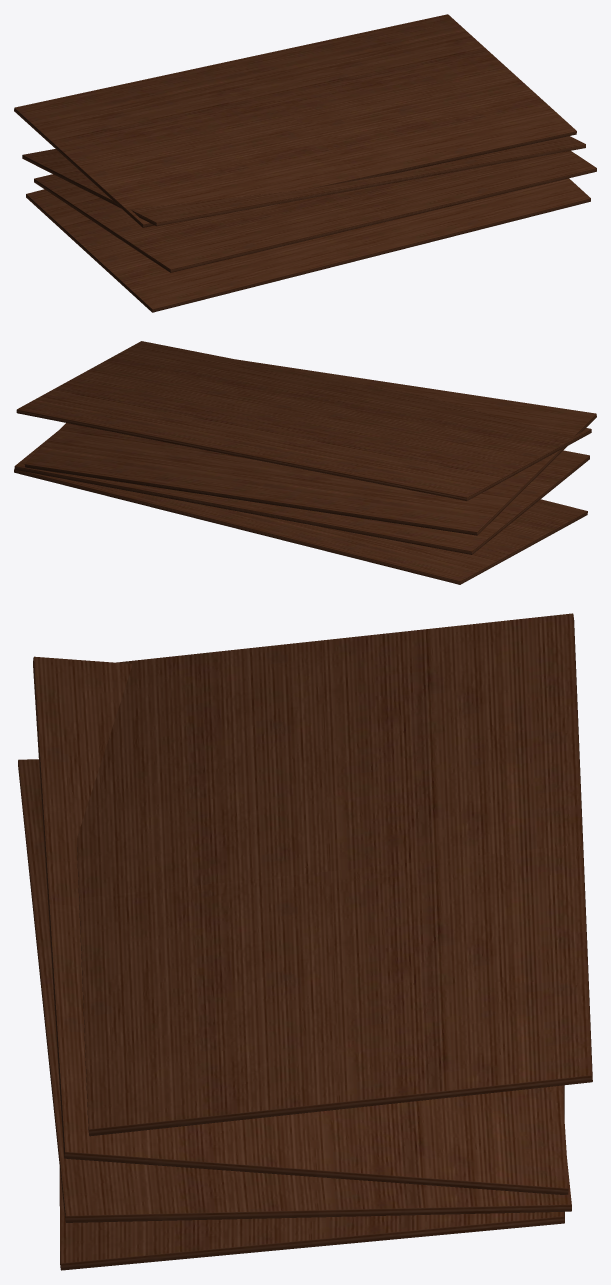
File: EST-FOR-001_anim.glb
3 renders of one model, top to bottom at view 1: azimuth 30°, elevation 25°; view 2: azimuth 150°, elevation 25°; view 3: azimuth 270°, elevation 25°, orthographic. The views are drawn at different scales.
Parts seen in each view (by area): view 1: EST-FOR-001_anim3, EST-FOR-001_anim1, EST-FOR-001_anim0, EST-FOR-001_anim2; view 2: EST-FOR-001_anim3, EST-FOR-001_anim2, EST-FOR-001_anim0, EST-FOR-001_anim1; view 3: EST-FOR-001_anim3, EST-FOR-001_anim2, EST-FOR-001_anim1, EST-FOR-001_anim0.
Boxes of the visible parts, <box> form: EST-FOR-001_anim3: <box>14,14,576,227</box>; EST-FOR-001_anim1: <box>34,151,596,272</box>; EST-FOR-001_anim0: <box>26,178,590,312</box>; EST-FOR-001_anim2: <box>22,136,585,226</box>; EST-FOR-001_anim3: <box>16,341,591,500</box>; EST-FOR-001_anim2: <box>24,359,596,535</box>; EST-FOR-001_anim0: <box>14,469,587,584</box>; EST-FOR-001_anim1: <box>14,431,589,554</box>; EST-FOR-001_anim3: <box>77,613,592,1136</box>; EST-FOR-001_anim2: <box>33,656,568,1194</box>; EST-FOR-001_anim1: <box>18,759,571,1222</box>; EST-FOR-001_anim0: <box>59,1085,564,1270</box>.
Size of the model in its own units: 2.29 by 0.5443 by 1.25.
1 material, 1 textured.
